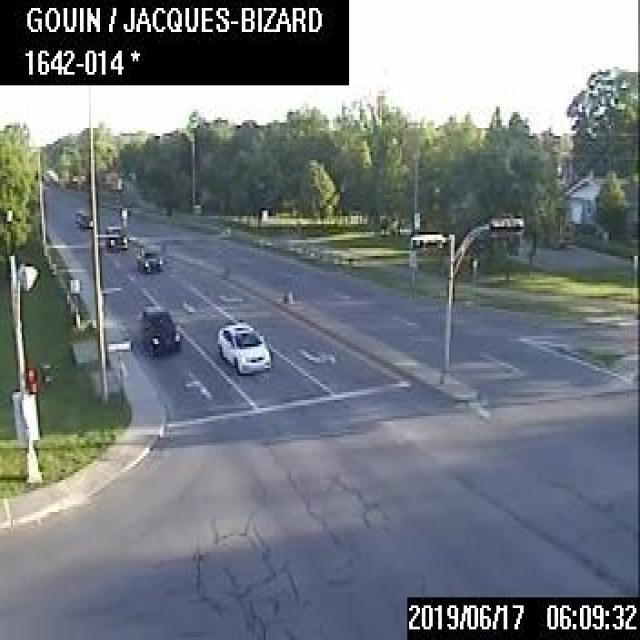vehicle: (216, 320, 269, 372), (138, 304, 178, 354), (134, 248, 162, 271), (102, 223, 126, 249), (78, 212, 90, 229)
